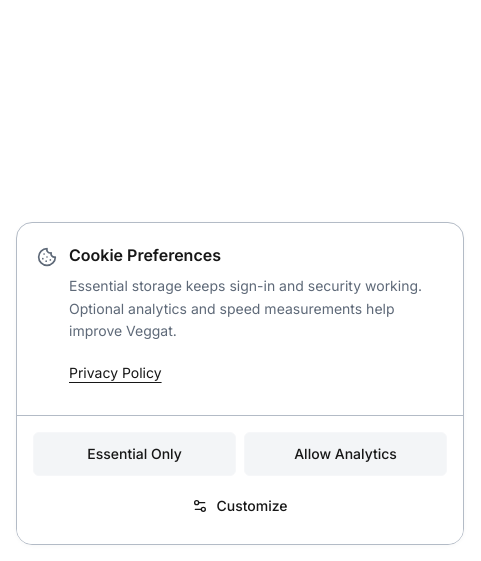
Test: enables consent actions only after hydration
Expected: the element showing "Essential Only Allow Analytics Customize" is enabled, [17,415,463,544]
Click the button "Customize". click: coordinates (240, 506)
box: [33,484,447,528]
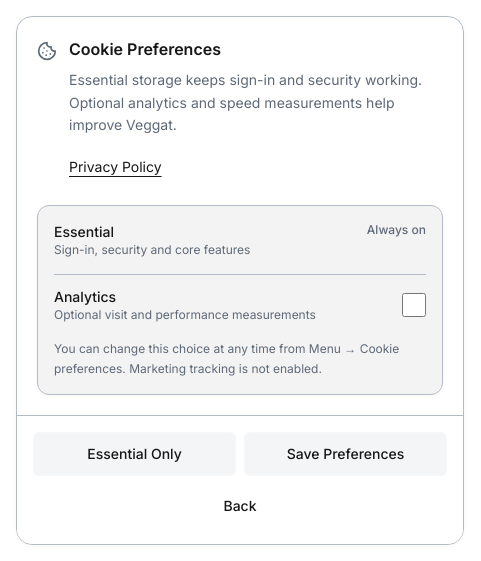
Now the switch labelled "Analytics Optional visit and performance measurements" is shown, box [402,293,426,317]
